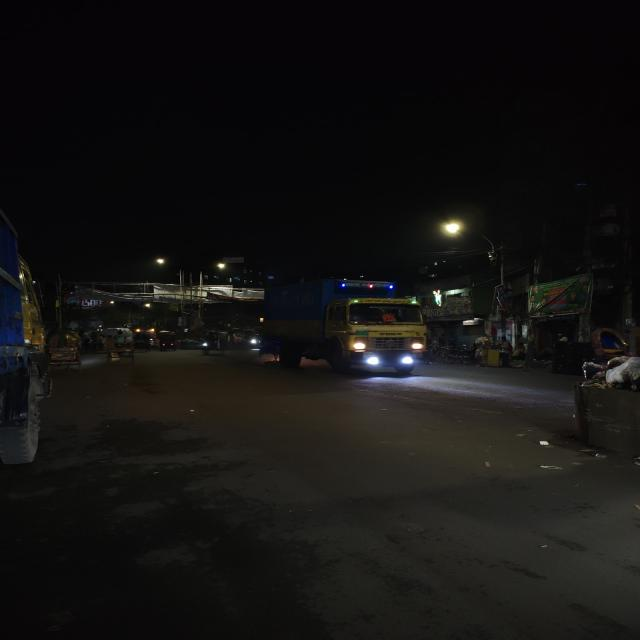rickshaw: (44, 326, 84, 372), (101, 328, 138, 366), (196, 330, 226, 356), (152, 330, 180, 351)
truck: (252, 278, 430, 377), (0, 197, 55, 488)
